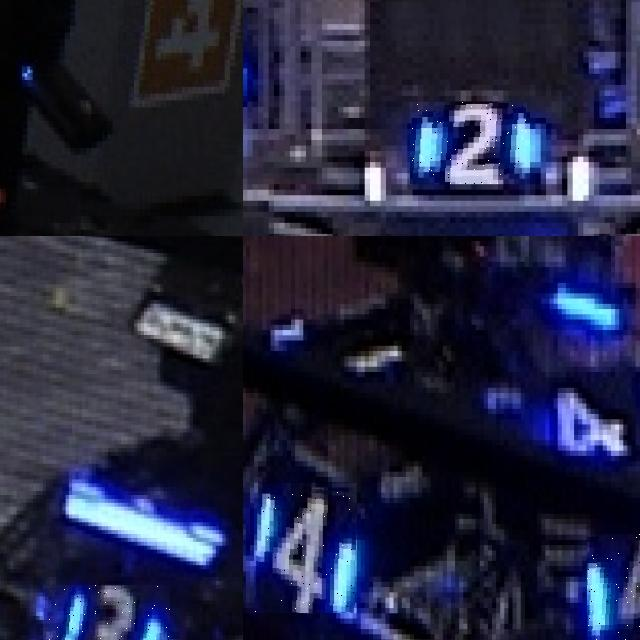B2: (410, 102, 527, 184)
B3: (42, 584, 170, 640)
B4: (254, 483, 357, 613), (586, 534, 640, 640)
